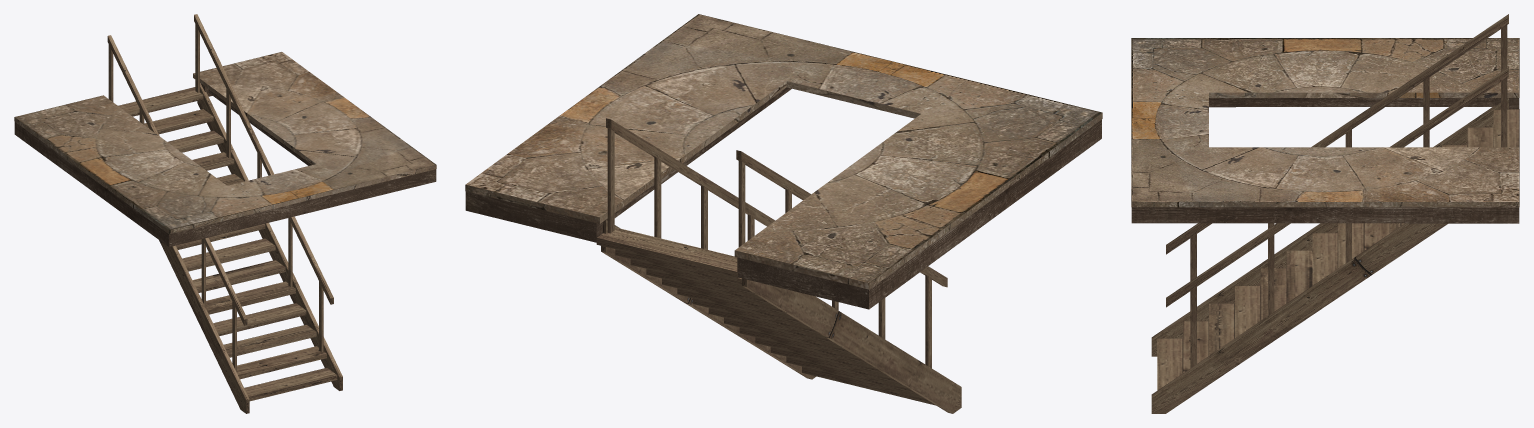
The model's file is Staircase.dae.
The picture shows the model from 3 angles, left to right: view 1: azimuth 30°, elevation 25°; view 2: azimuth 150°, elevation 25°; view 3: azimuth 270°, elevation 25°; orthographic projection. The views are drawn at different scales.
Visible parts, largest first — view 1: Floor, Staircase; view 2: Floor, Staircase; view 3: Floor, Staircase.
Part boxes in pixels (bbox=[...]): Floor: bbox=[14, 52, 436, 246]; Staircase: bbox=[107, 14, 342, 413]; Floor: bbox=[465, 14, 1102, 309]; Staircase: bbox=[596, 118, 961, 413]; Floor: bbox=[1131, 38, 1519, 223]; Staircase: bbox=[1151, 14, 1519, 413].
Size of the model in its own units: 4 by 3.9 by 4.
2 materials, 2 textured.
